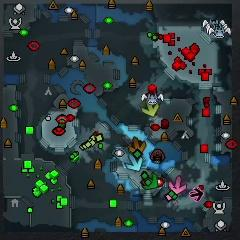x1: (169, 176, 186, 193)
x1Clone: (191, 187, 204, 201), (189, 189, 202, 201)
x2: (141, 99, 159, 117)
x3: (126, 156, 143, 171)
x4: (142, 173, 157, 190)
x5: (129, 137, 146, 154)
